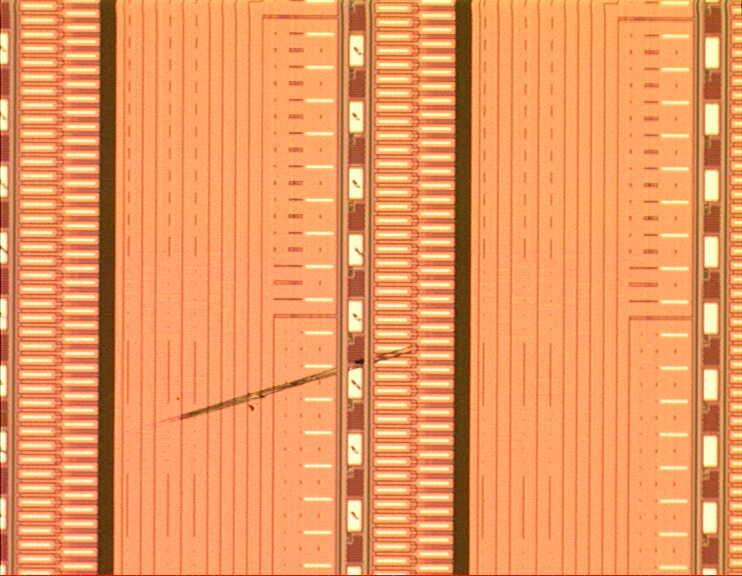SCRATCH: (142, 336, 426, 437)
